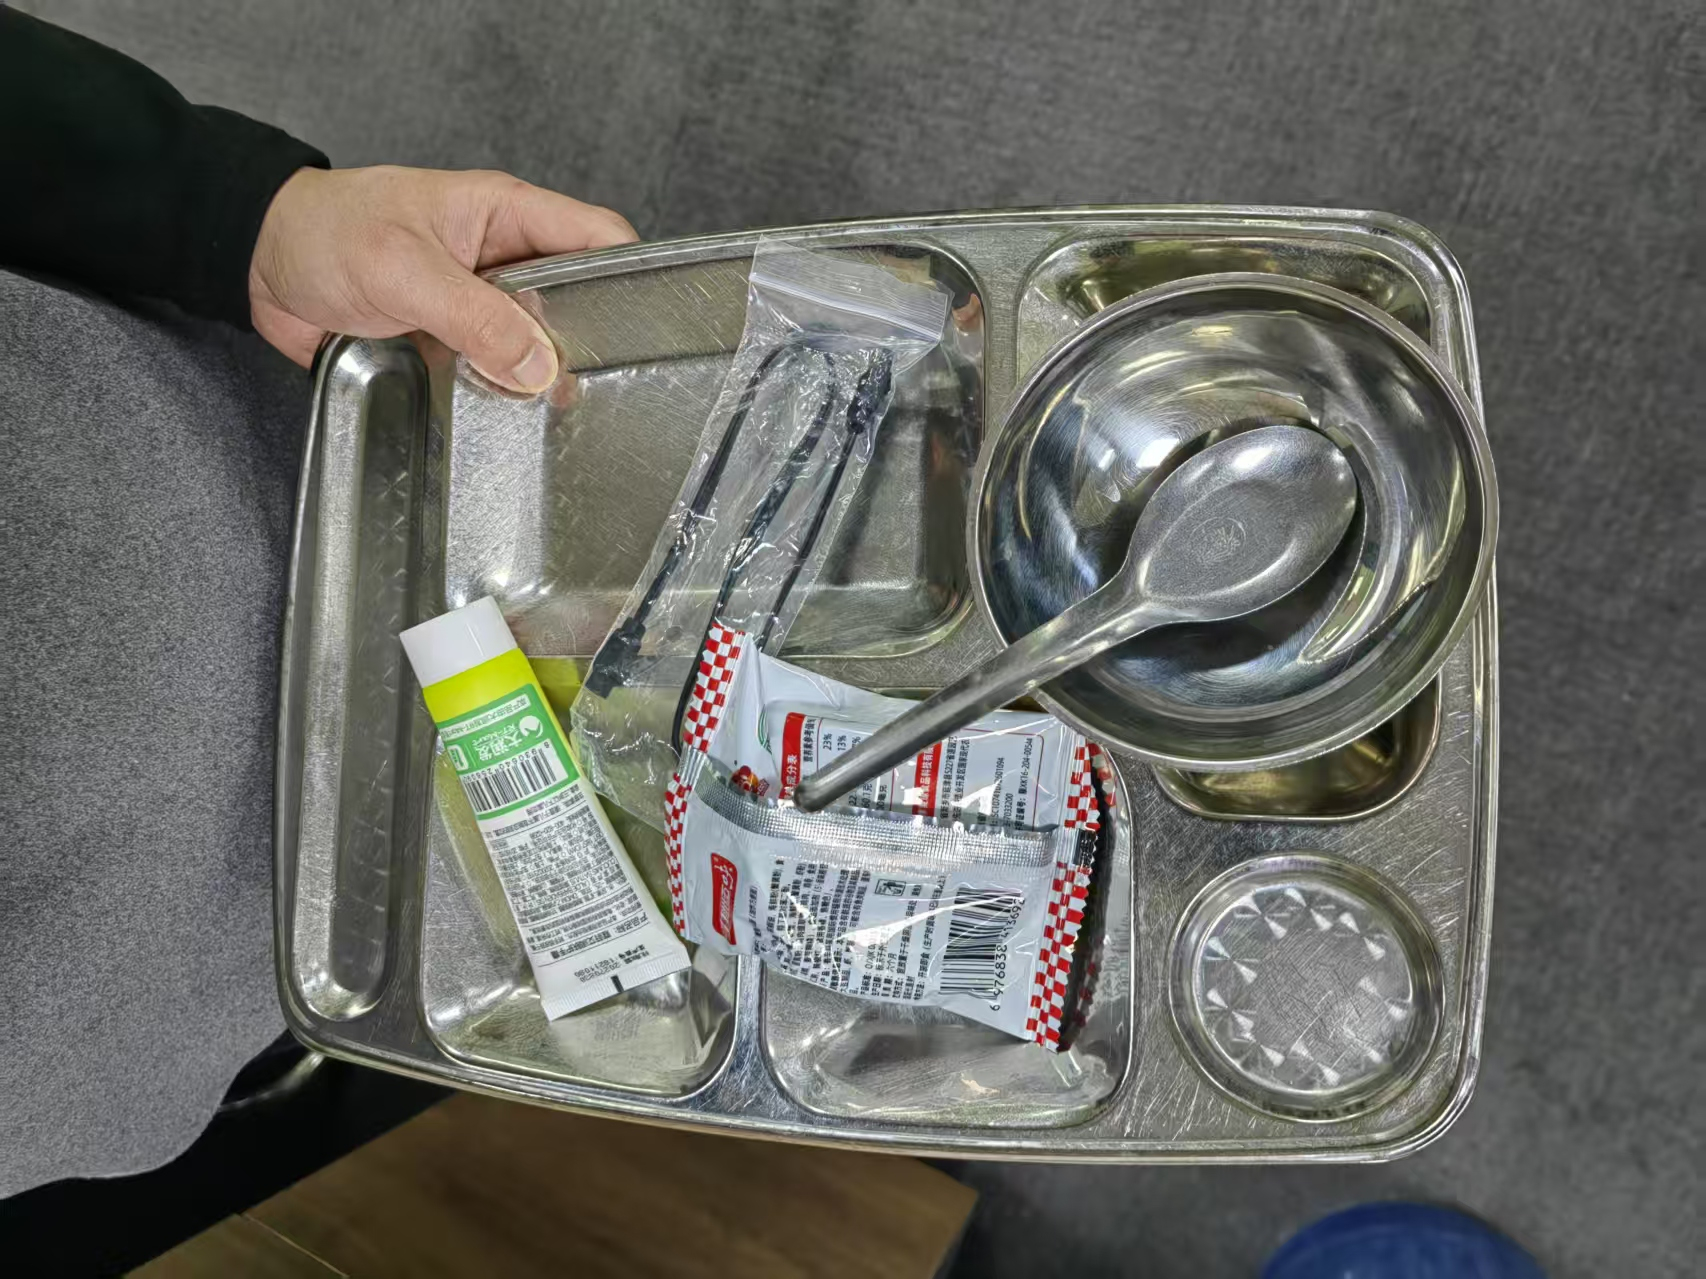moderate: (394, 230, 1100, 1052)
plate: (269, 199, 1505, 1171)
